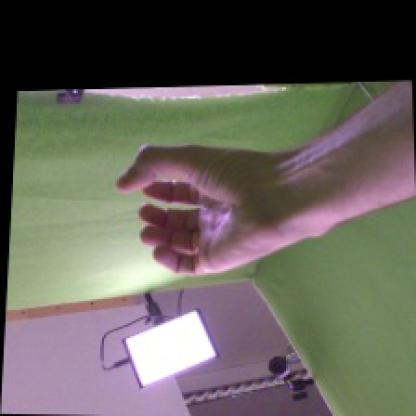Hand: (115, 145, 327, 276)
